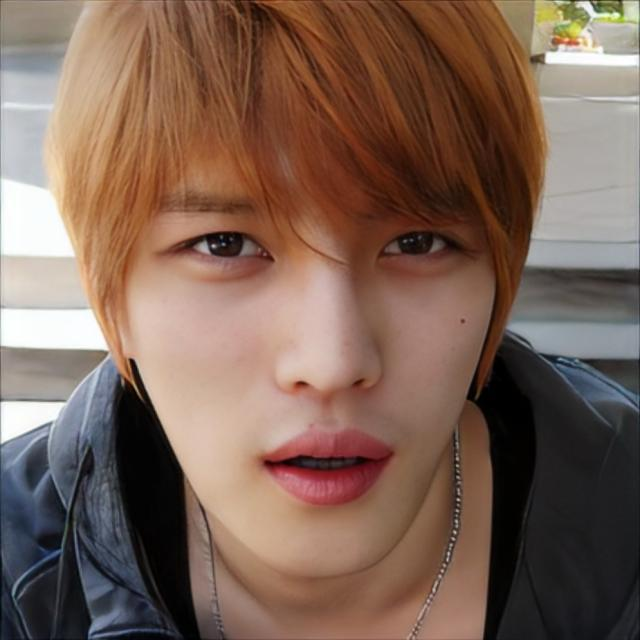neutral: (120, 41, 500, 582)
